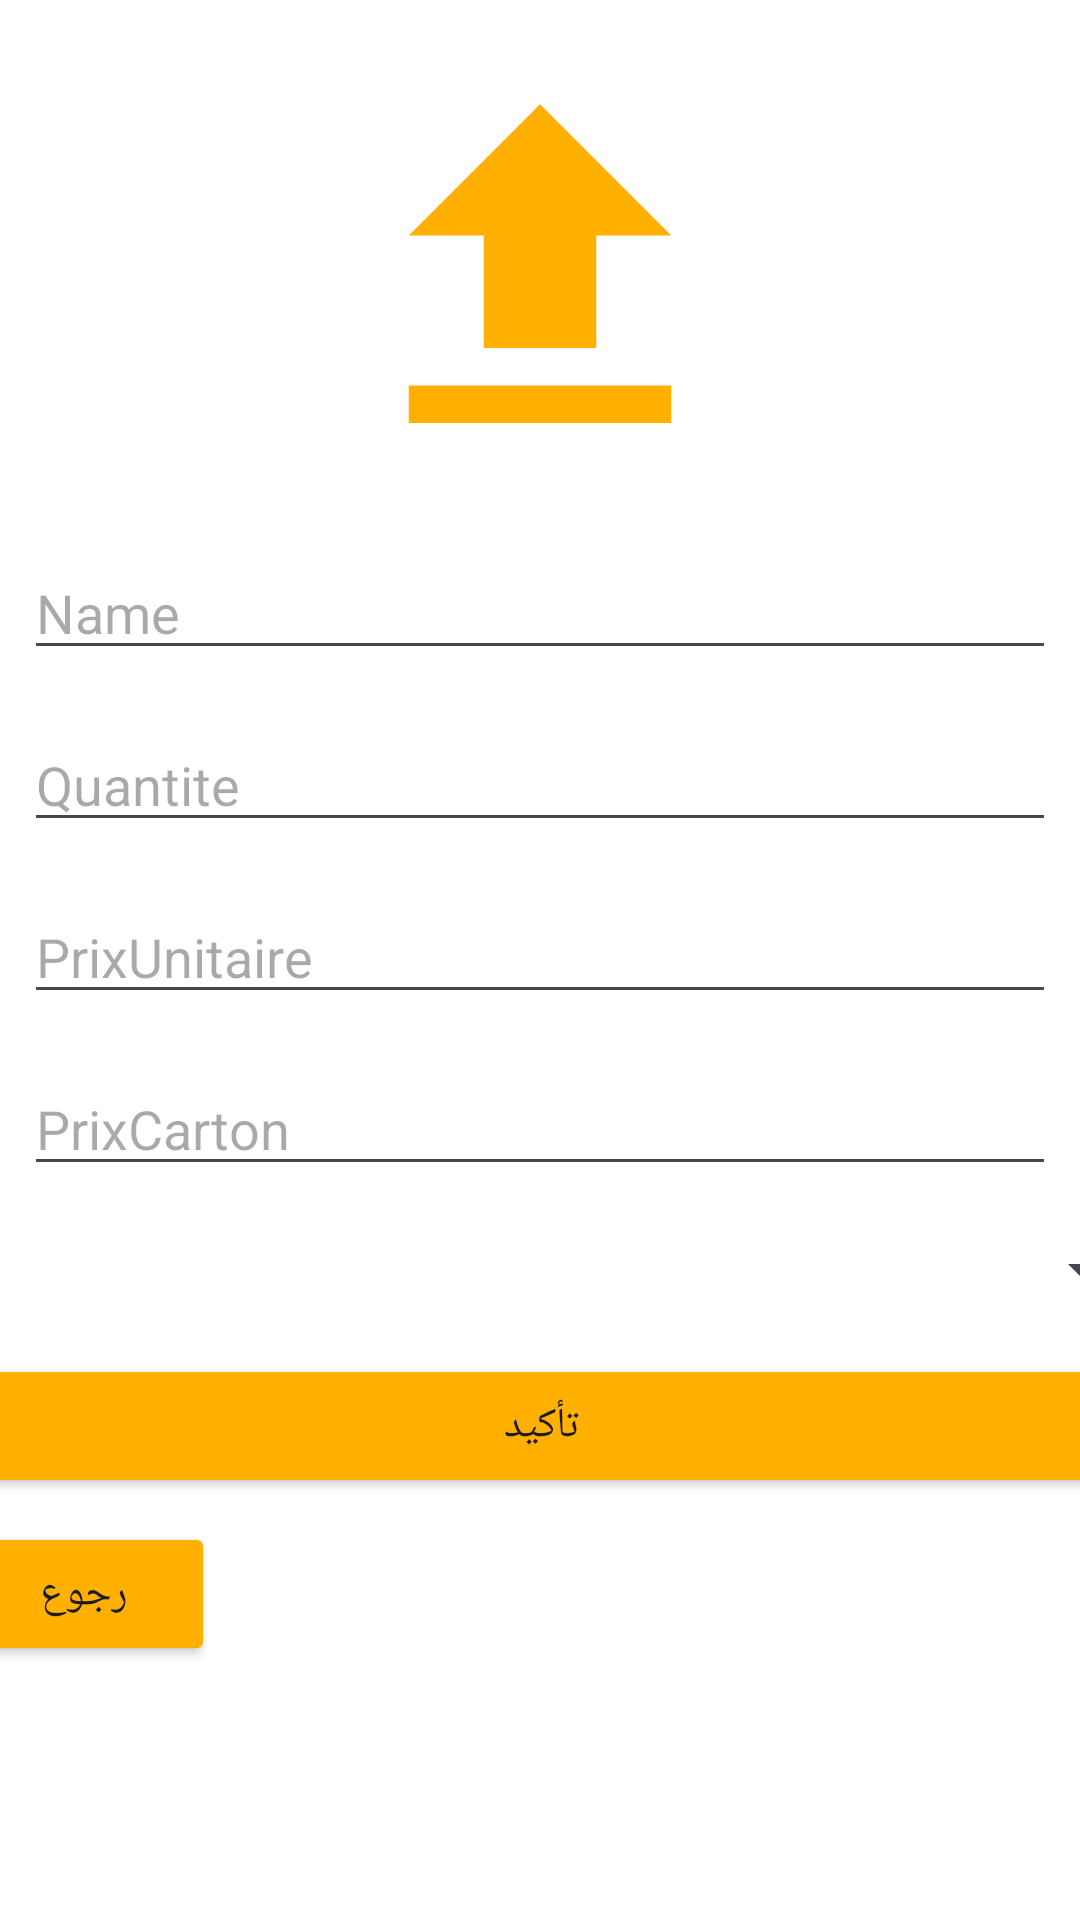

Named icons in this screenshot (1080 x 1920) and their centers, (x=x, y=y):
file upload: (x=540, y=263)
